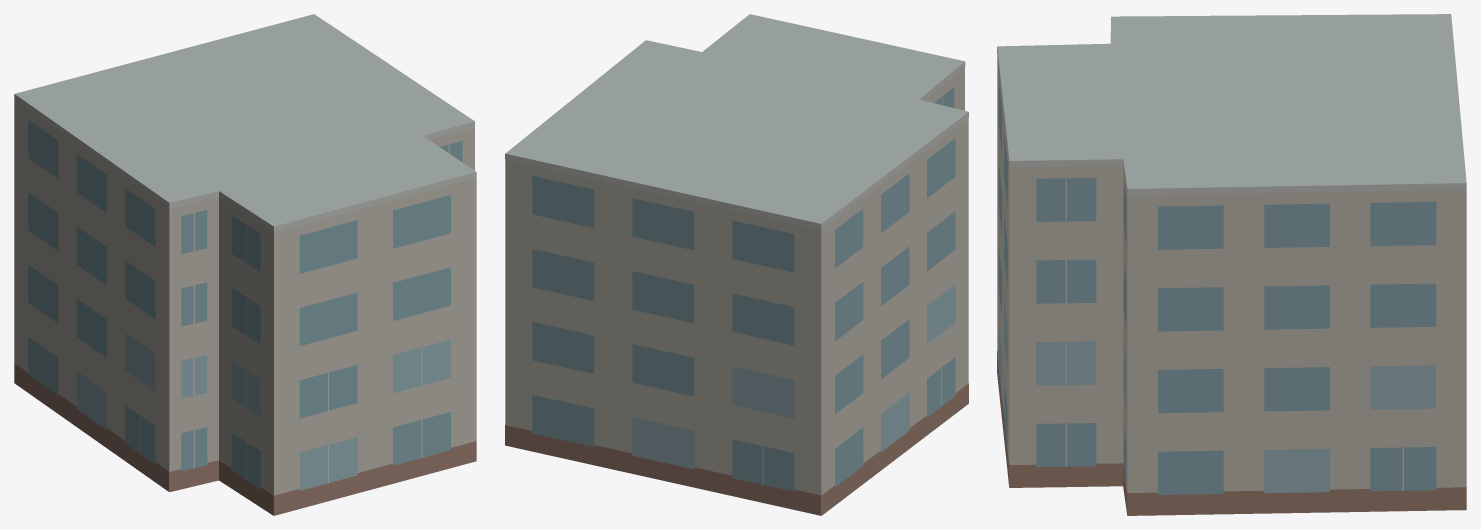
Rendered from survey-upis-32950743.glb.
The picture shows the model from 3 angles, left to right: view 1: azimuth 30°, elevation 25°; view 2: azimuth 150°, elevation 25°; view 3: azimuth 270°, elevation 25°; orthographic projection. The views are drawn at different scales.
Visible parts, largest first — view 1: survey-upis-32950743.tmp; view 2: survey-upis-32950743.tmp; view 3: survey-upis-32950743.tmp.
Boxes of the visible parts, x1,y1,x2,y2 form: survey-upis-32950743.tmp: (14, 14, 476, 515); survey-upis-32950743.tmp: (505, 14, 968, 515); survey-upis-32950743.tmp: (997, 14, 1466, 515).
Size of the model in its own units: 14.01 by 12.2 by 15.89.
